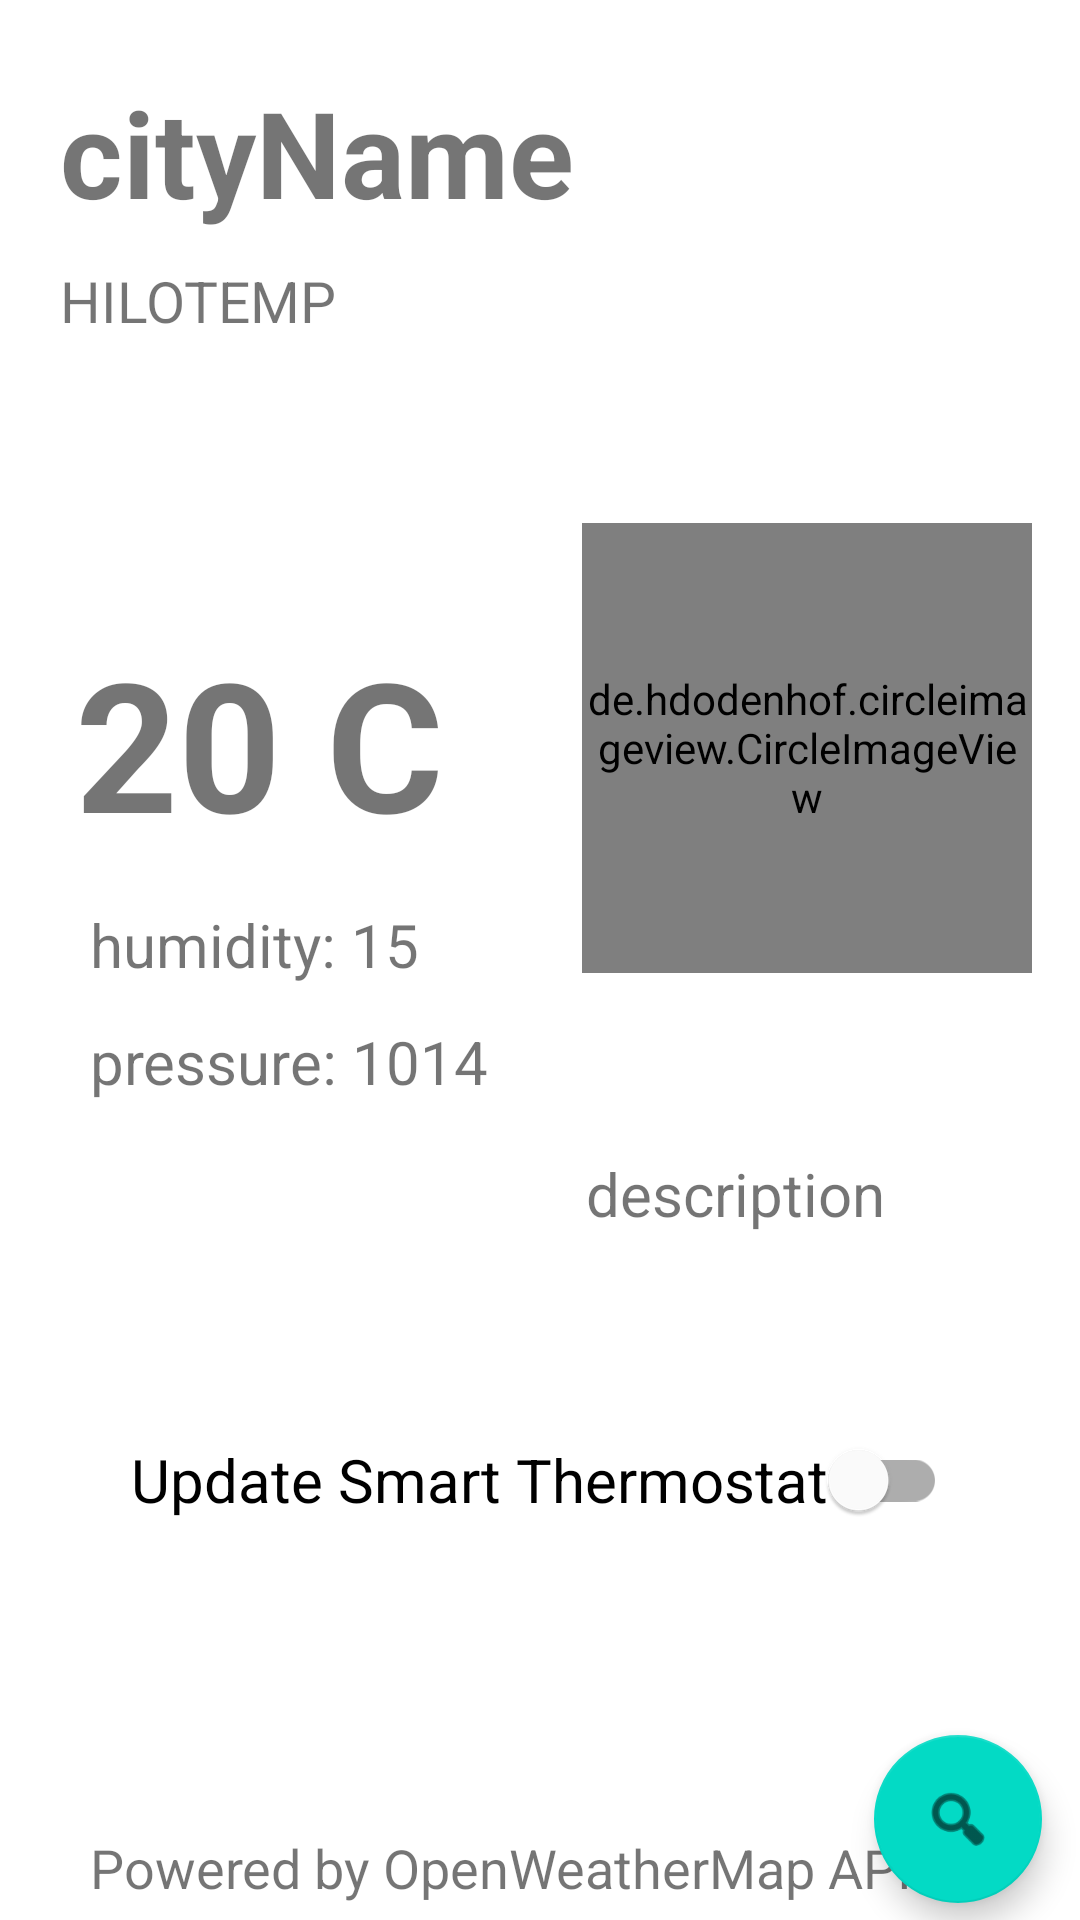

Icon bounding boxes for this 1080w x 1920h phone screenshot, format [x1,y1,x2,y2]:
search: [874,1735,1042,1903]
